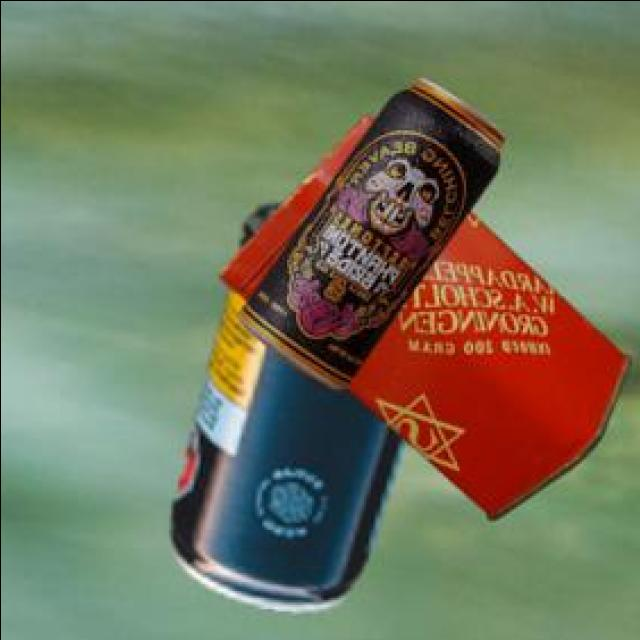logam: (224, 112, 632, 516), (176, 203, 407, 607), (242, 74, 507, 385)
